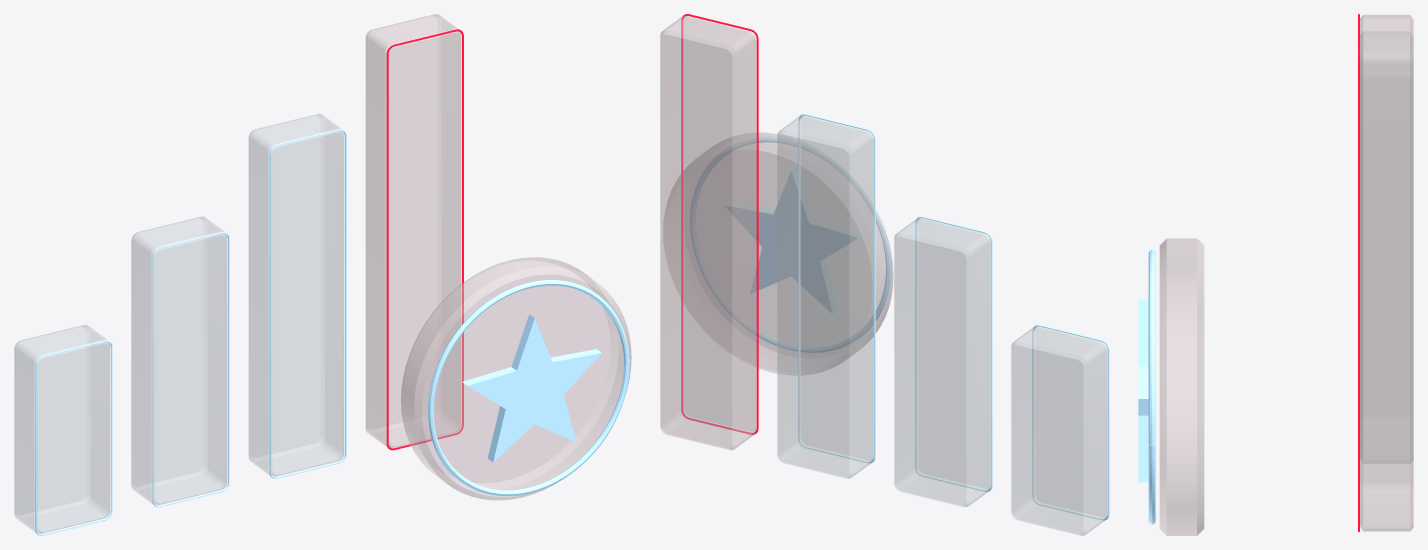
The model's file is 42-benchmark.glb.
The picture shows the model from 3 angles, left to right: view 1: azimuth 30°, elevation 25°; view 2: azimuth 150°, elevation 25°; view 3: azimuth 270°, elevation 25°; orthographic projection. The views are drawn at different scales.
Visible parts, largest first — view 1: BC thin clear technical glass, BC subtle ruby technical glass, BC cool glass edge, BC ruby signal edge; view 2: BC thin clear technical glass, BC subtle ruby technical glass, BC cool glass edge, BC ruby signal edge; view 3: BC subtle ruby technical glass, BC thin clear technical glass, BC cool glass edge, BC ruby signal edge.
Boxes of the visible parts, x1,y1,x2,y2 form: BC thin clear technical glass: [14, 113, 344, 533]; BC subtle ruby technical glass: [365, 14, 631, 500]; BC cool glass edge: [35, 129, 629, 535]; BC ruby signal edge: [386, 29, 463, 450]; BC thin clear technical glass: [777, 115, 1107, 535]; BC subtle ruby technical glass: [660, 15, 893, 450]; BC cool glass edge: [690, 113, 1109, 520]; BC ruby signal edge: [681, 14, 758, 434]; BC subtle ruby technical glass: [1159, 14, 1413, 535]; BC thin clear technical glass: [1360, 32, 1412, 463]; BC cool glass edge: [1138, 249, 1155, 524]; BC ruby signal edge: [1358, 14, 1359, 531].
Bounding box in the file's own units: 1.89 × 1.42 × 0.7401.
